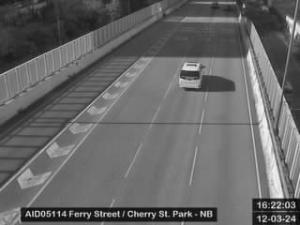vehicle: (178, 61, 206, 91), (212, 3, 220, 10)
